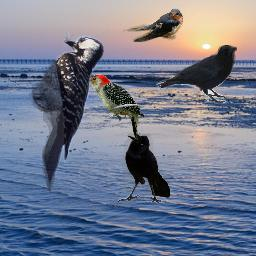Crow: (156, 45, 237, 104), (118, 133, 170, 203)
Swallow: (123, 8, 183, 42)
Woodpecker: (29, 29, 104, 194), (82, 74, 144, 140)
